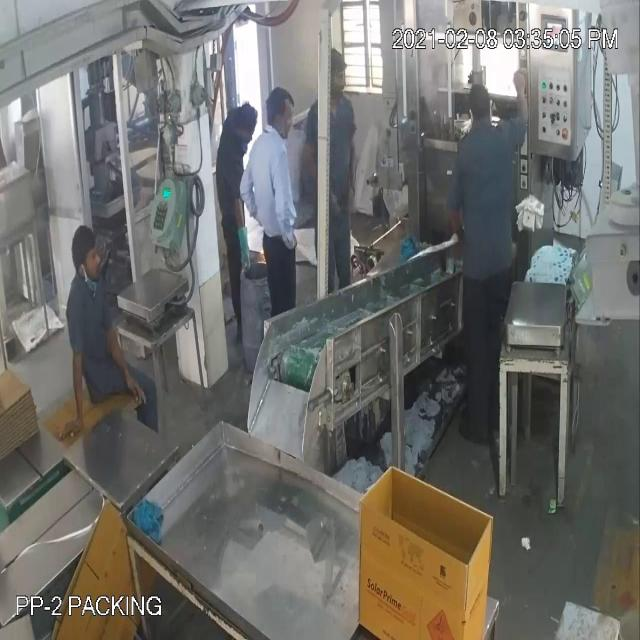gloves: (233, 197, 260, 287)
no-gloves: (99, 305, 155, 417), (57, 340, 93, 450), (270, 150, 302, 268), (439, 186, 472, 255), (511, 70, 534, 145)
